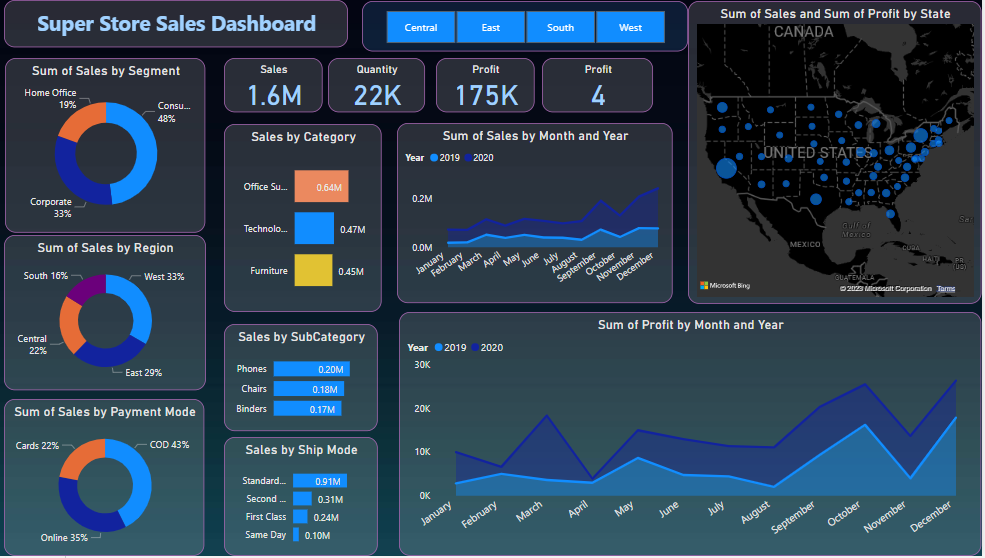

This screenshot's page, from the dashboard's own definition file:
{"tool":"powerbi","page":{"name":"Page 1","canvas":[1280,720],"ordinal":0},"visuals":[{"type":"clusteredBarChart","title":"Sales by Category","fields":{"Category":["SuperStore_Sales_Dataset.Category"],"Y":["Sum(SuperStore_Sales_Dataset.Sales)"]},"box":[303.3,163.3,203.3,241.7],"z":0},{"type":"clusteredBarChart","title":"Sales by SubCategory","fields":{"Category":["SuperStore_Sales_Dataset.Sub-Category"],"Y":["Sum(SuperStore_Sales_Dataset.Sales)"]},"box":[303.3,421.7,198.3,138.3],"z":1000},{"type":"stackedAreaChart","fields":{"Y":["Sum(SuperStore_Sales_Dataset.Sales)"],"Category":["SuperStore_Sales_Dataset.Order Date.Variation.Date Hierarchy.Month","SuperStore_Sales_Dataset.Order Date.Variation.Date Hierarchy.Day"],"Series":["SuperStore_Sales_Dataset.Order Date.Variation.Date Hierarchy.Year"]},"box":[526.2,162.7,355,232],"z":2000},{"type":"stackedAreaChart","fields":{"Category":["SuperStore_Sales_Dataset.Order Date.Variation.Date Hierarchy.Month","SuperStore_Sales_Dataset.Order Date.Variation.Date Hierarchy.Day"],"Series":["SuperStore_Sales_Dataset.Order Date.Variation.Date Hierarchy.Year"],"Y":["Sum(SuperStore_Sales_Dataset.Profit)"]},"box":[529,406,749.7,314],"z":3000},{"type":"map","fields":{"Category":["SuperStore_Sales_Dataset.State"],"Size":["Sum(SuperStore_Sales_Dataset.Sales)"]},"box":[901.7,5,378.3,390],"z":4000},{"type":"clusteredBarChart","title":"Sales by Ship Mode","fields":{"Category":["SuperStore_Sales_Dataset.Ship Mode","SuperStore_Sales_Dataset.Category"],"Y":["Sum(SuperStore_Sales_Dataset.Sales)"]},"box":[303.3,566.7,198.3,153.3],"z":5000},{"type":"donutChart","fields":{"Category":["SuperStore_Sales_Dataset.Segment"],"Y":["Sum(SuperStore_Sales_Dataset.Sales)"]},"box":[21.7,78.3,258.3,225],"z":6000},{"type":"donutChart","fields":{"Category":["SuperStore_Sales_Dataset.Region"],"Y":["Sum(SuperStore_Sales_Dataset.Sales)"]},"box":[20,306.7,260,200],"z":7000},{"type":"donutChart","fields":{"Category":["SuperStore_Sales_Dataset.Payment Mode"],"Y":["Sum(SuperStore_Sales_Dataset.Sales)"]},"box":[20,518.3,258.3,201.7],"z":8000},{"type":"slicer","fields":{"Values":["SuperStore_Sales_Dataset.Region"]},"box":[481.7,5,420,65],"z":9000},{"type":"textbox","box":[21.2,4.2,442.8,60.8],"z":10000},{"type":"card","title":"Sales","fields":{"Values":["Sum(SuperStore_Sales_Dataset.Sales)"]},"box":[303.3,78.3,126.7,70],"z":11000},{"type":"card","title":"Quantity","fields":{"Values":["Sum(SuperStore_Sales_Dataset.Quantity)"]},"box":[438.3,78.3,125,70],"z":12000},{"type":"card","title":"Profit","fields":{"Values":["Sum(SuperStore_Sales_Dataset.Profit)"]},"box":[576.7,78.3,126.7,70],"z":13000},{"type":"card","title":"Profit","fields":{"Values":["Avg(SuperStore_Sales_Dataset.AvgDelivery)"]},"box":[713.3,78.3,143.3,70],"z":14000}]}

Visuals, with their boxes in screenshot pixels (x1, y1, x2, y2), scaled from the page's 1280x720 canvas onto the 985x558 screenshot:
"Sales by Category" clusteredBarChart: locate(233, 127, 390, 314)
"Sales by SubCategory" clusteredBarChart: locate(233, 327, 386, 434)
stackedAreaChart - Sum(SuperStore_Sales_Dataset.Sales) x SuperStore_Sales_Dataset.Order Date.Variation.Date Hierarchy.Month: locate(405, 126, 678, 306)
stackedAreaChart - SuperStore_Sales_Dataset.Order Date.Variation.Date Hierarchy.Month x SuperStore_Sales_Dataset.Order Date.Variation.Date Hierarchy.Day: locate(407, 315, 984, 557)
map - SuperStore_Sales_Dataset.State x Sum(SuperStore_Sales_Dataset.Sales): locate(694, 4, 984, 306)
"Sales by Ship Mode" clusteredBarChart: locate(233, 439, 386, 557)
donutChart - SuperStore_Sales_Dataset.Segment x Sum(SuperStore_Sales_Dataset.Sales): locate(17, 61, 215, 235)
donutChart - SuperStore_Sales_Dataset.Region x Sum(SuperStore_Sales_Dataset.Sales): locate(15, 238, 215, 393)
donutChart - SuperStore_Sales_Dataset.Payment Mode x Sum(SuperStore_Sales_Dataset.Sales): locate(15, 402, 214, 557)
slicer - SuperStore_Sales_Dataset.Region: locate(371, 4, 694, 54)
textbox: locate(16, 3, 357, 50)
"Sales" card: locate(233, 61, 331, 115)
"Quantity" card: locate(337, 61, 433, 115)
"Profit" card: locate(444, 61, 541, 115)
"Profit" card: locate(549, 61, 659, 115)
